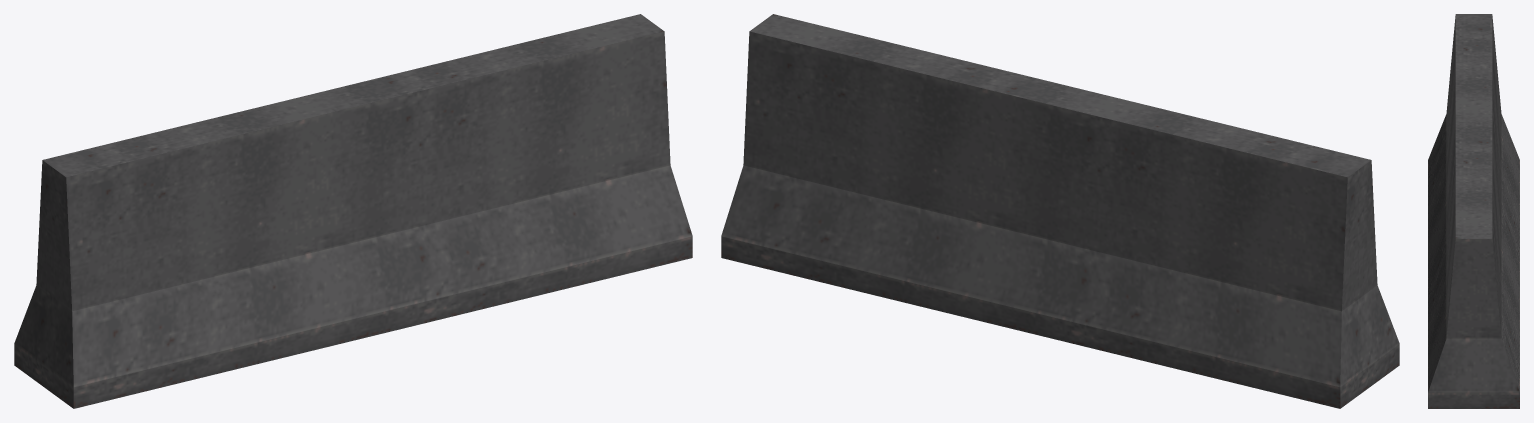
The model's file is concrete_block.fbx.
3 views of the same model, side by side, from view 1: azimuth 30°, elevation 25°; view 2: azimuth 150°, elevation 25°; view 3: azimuth 270°, elevation 25° (orthographic). The views are drawn at different scales.
Visible parts, largest first — view 1: concrete_block; view 2: concrete_block; view 3: concrete_block.
Boxes of the visible parts, x1,y1,x2,y2 form: concrete_block: (14, 14, 692, 408); concrete_block: (721, 14, 1399, 408); concrete_block: (1428, 14, 1519, 408).
Bounding box in the file's own units: 300 × 100 × 50.
